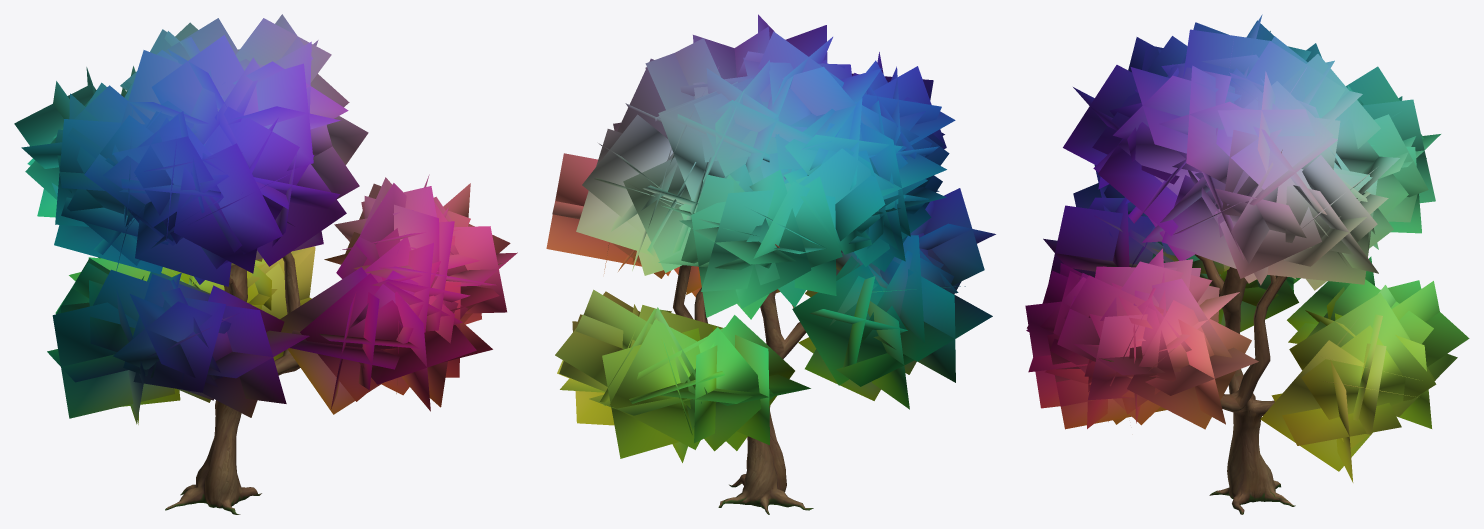
3 views of the same model, side by side, from view 1: azimuth 30°, elevation 25°; view 2: azimuth 150°, elevation 25°; view 3: azimuth 270°, elevation 25° (orthographic). The views are drawn at different scales.
Visible parts, largest first — view 1: zw_gc_003c1_lod0, zw_gc_003c2_lod0; view 2: zw_gc_003c1_lod0, zw_gc_003c2_lod0; view 3: zw_gc_003c1_lod0, zw_gc_003c2_lod0.
Part boxes in pixels (box(x1,y1,x2,y2)): zw_gc_003c1_lod0: box(14, 14, 517, 424); zw_gc_003c2_lod0: box(165, 252, 503, 514); zw_gc_003c1_lod0: box(546, 14, 995, 462); zw_gc_003c2_lod0: box(673, 244, 813, 514); zw_gc_003c1_lod0: box(1025, 14, 1469, 482); zw_gc_003c2_lod0: box(1099, 150, 1295, 514).
Size of what is drawn, in the model's own units: 5.53 by 5.68 by 4.96.
